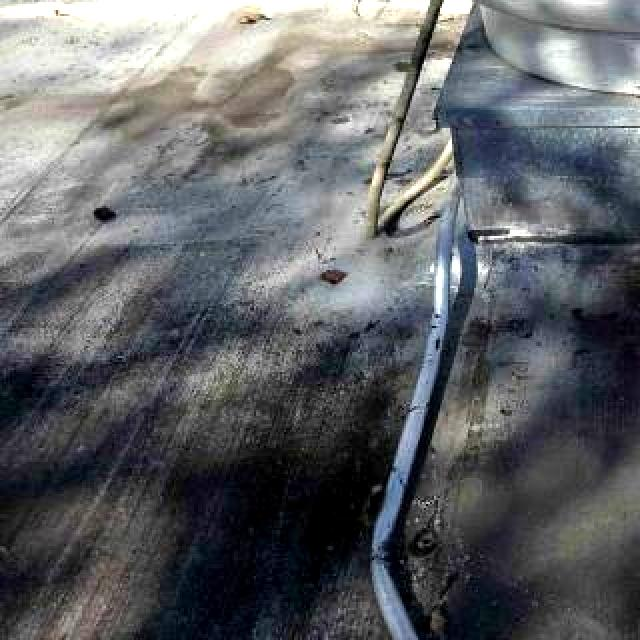GRAVITY-VENT: (350, 0, 640, 190)
